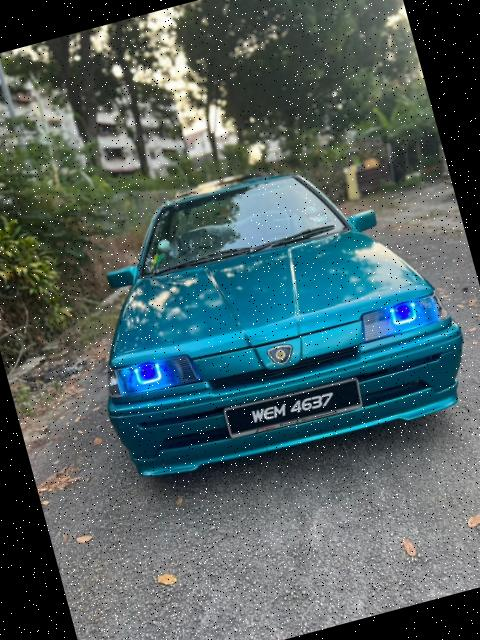License_Plate: (225, 377, 358, 442)
car: (56, 137, 480, 510)
